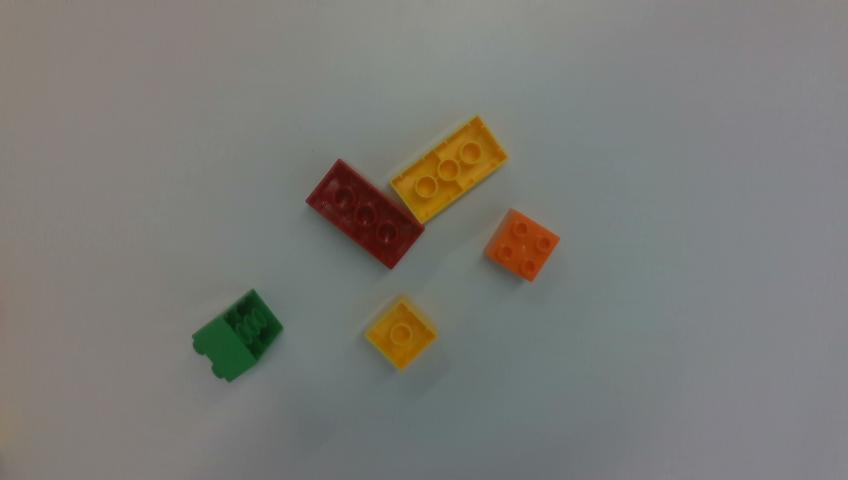2x2_orange: (484, 209, 559, 281)
2x2_yellow: (366, 294, 437, 369)
4x2_green: (192, 289, 283, 381)
4x2_red: (306, 159, 423, 268)
4x2_yellow: (391, 115, 507, 223)
